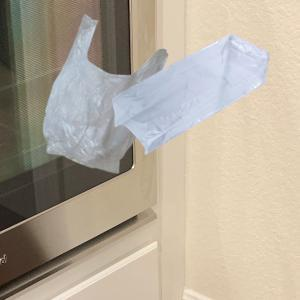plastic_bag: (40, 12, 169, 178)
